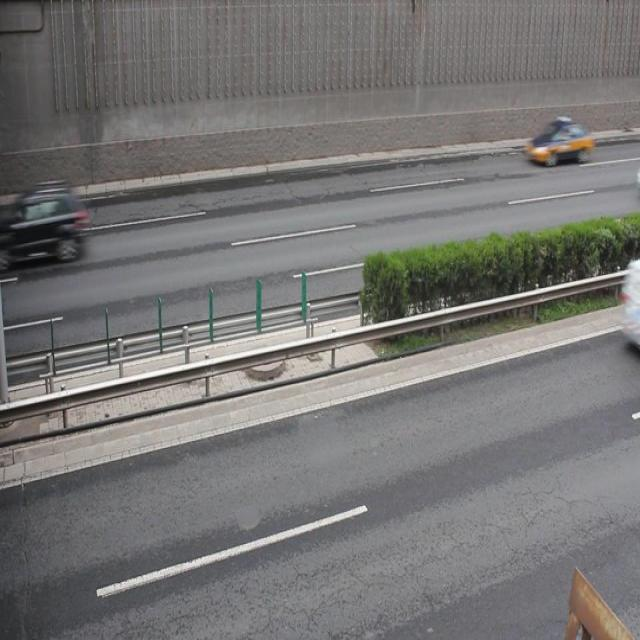car: (18, 177, 87, 269), (524, 119, 590, 165)
